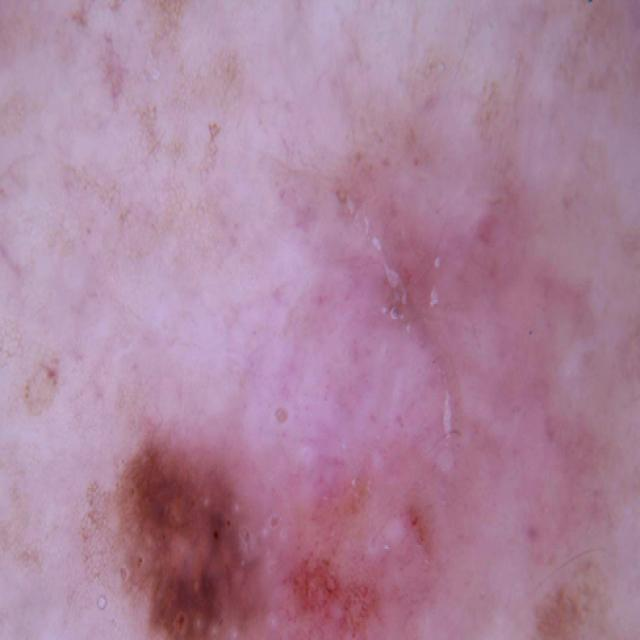Keratosis: (280, 169, 562, 541), (112, 372, 313, 640), (508, 569, 621, 640)
